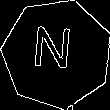N_S: (34, 27, 79, 81)
